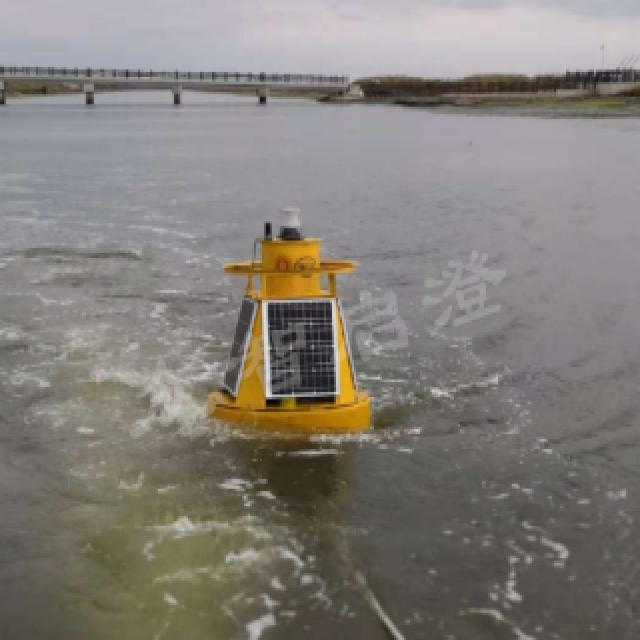buoy: (207, 199, 375, 435)
